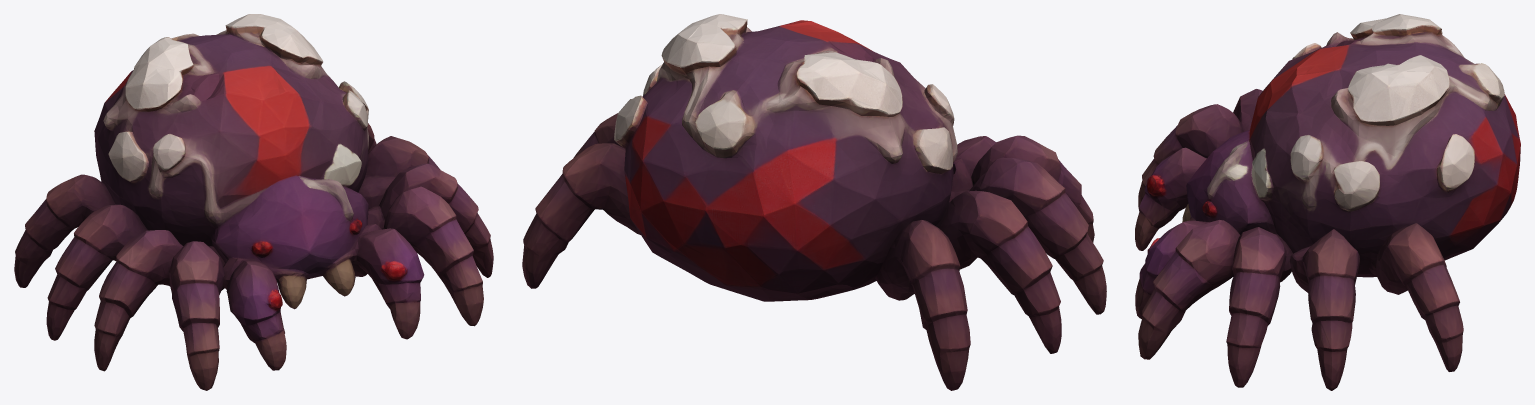
File: trellis-1.glb
3 views of the same model, side by side, from view 1: azimuth 30°, elevation 25°; view 2: azimuth 150°, elevation 25°; view 3: azimuth 270°, elevation 25° (orthographic). The views are drawn at different scales.
Visible parts, largest first — view 1: world; view 2: world; view 3: world.
Boxes of the visible parts, left/top/right/bottom form: world: left=14, top=14, right=493, bottom=390; world: left=522, top=14, right=1106, bottom=390; world: left=1135, top=14, right=1520, bottom=390.
Size of the model in its own units: 0.9999 by 0.5496 by 0.7727.
1 material, 1 textured.
